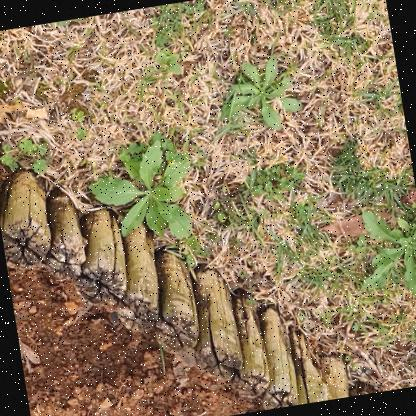Weeds: (82, 132, 200, 253), (347, 194, 415, 313), (214, 51, 305, 136), (154, 47, 184, 78)
